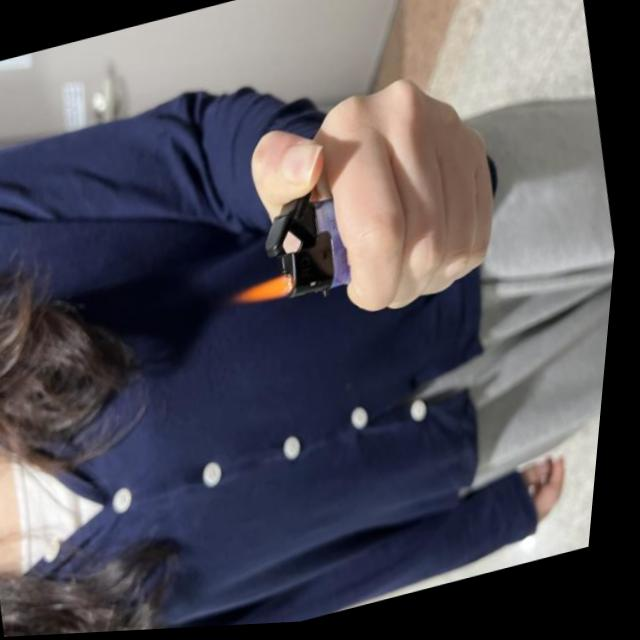Fire: (238, 275, 299, 310)
